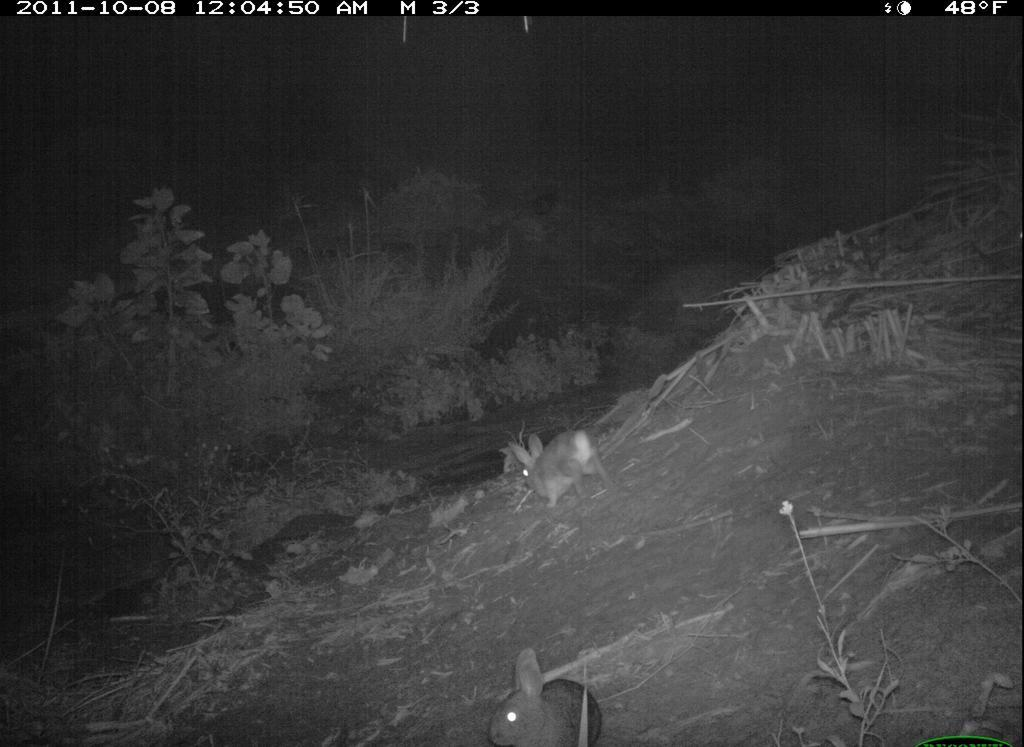rabbit: (479, 646, 610, 747), (504, 425, 619, 518)
